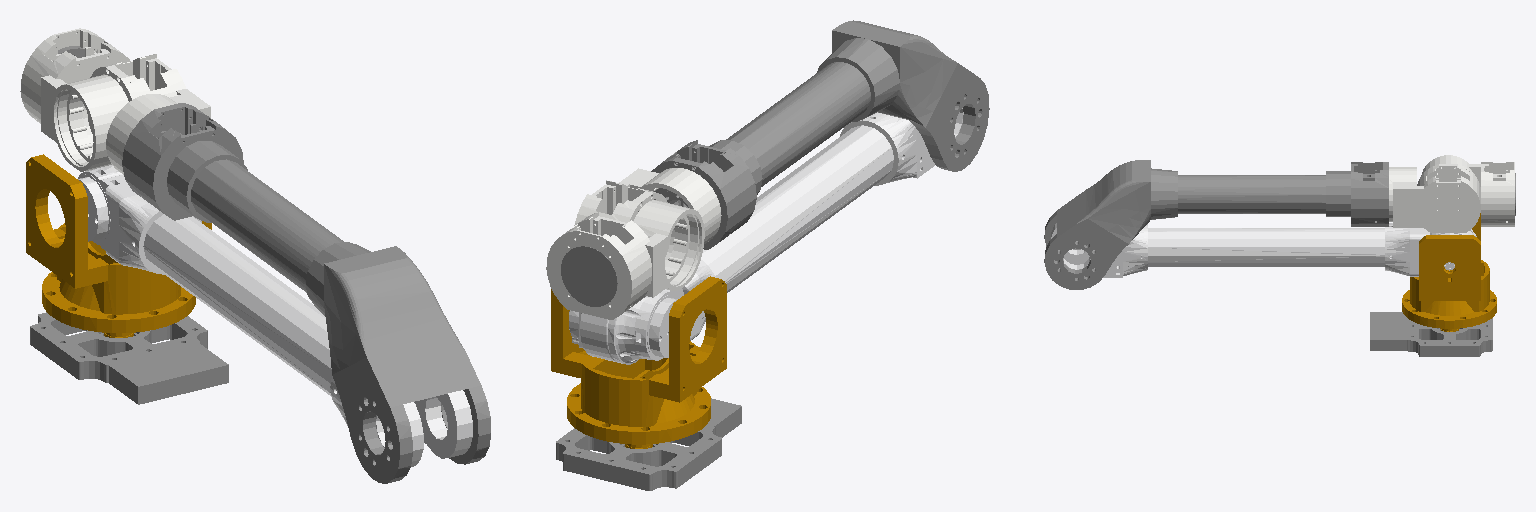
URDF robot description (solid_arm_3):
<?xml version="1.0" encoding="utf-8"?>
<!-- This URDF was automatically created by SolidWorks to URDF Exporter! Originally created by [author] ([email redacted]) 
     Commit Version: 1.6.0-4-g7f85cfe  Build Version: 1.6.7995.38578
     For more information, please see http://wiki.ros.org/sw_urdf_exporter -->
<robot
  name="solid_arm_3">
  <link
    name="base_link">
    <inertial>
      <origin
        xyz="5.45811228249291E-12 -0.0347354696031365 0.00993682800388759"
        rpy="0 0 0" />
      <mass
        value="300" />
      <inertia
        ixx="0.00130136558209543"
        ixy="-3.25030060303559E-14"
        ixz="-1.25314675845905E-16"
        iyy="0.000611255919066504"
        iyz="7.97483279275703E-07"
        izz="0.00188833434239115" />
    </inertial>
    <visual>
      <origin
        xyz="0 0 0"
        rpy="0 0 0" />
      <geometry>
        <mesh
          filename="package://solid_arm_3/meshes/base_link.STL" />
      </geometry>
      <material
        name="">
        <color
          rgba="0.627450980392157 0.627450980392157 0.627450980392157 1" />
      </material>
    </visual>
    <collision>
      <origin
        xyz="0 0 0"
        rpy="0 0 0" />
      <geometry>
        <mesh
          filename="package://solid_arm_3/meshes/base_link.STL" />
      </geometry>
    </collision>
  </link>
  <link
    name="link_1">
    <inertial>
      <origin
        xyz="-6.54924357350654E-09 0.0935754483865625 0.00348909519593697"
        rpy="0 0 0" />
      <mass
        value="0.8" />
      <inertia
        ixx="0.00445491793659017"
        ixy="5.79946981711623E-09"
        ixz="1.56221159089061E-09"
        iyy="0.00348291321303076"
        iyz="-0.000197414406114102"
        izz="0.0032938194840003" />
    </inertial>
    <visual>
      <origin
        xyz="0 0 0"
        rpy="0 0 0" />
      <geometry>
        <mesh
          filename="package://solid_arm_3/meshes/link_1.STL" />
      </geometry>
      <material
        name="">
        <color
          rgba="0.784313725490196 0.556862745098039 0.0274509803921569 1" />
      </material>
    </visual>
    <collision>
      <origin
        xyz="0 0 0"
        rpy="0 0 0" />
      <geometry>
        <mesh
          filename="package://solid_arm_3/meshes/link_1.STL" />
      </geometry>
    </collision>
  </link>
  <joint
    name="joint_1"
    type="revolute">
    <origin
      xyz="0 0 -0.000272032831633795"
      rpy="1.5707963267949 0 1.5707963267949" />
    <parent
      link="base_link" />
    <child
      link="link_1" />
    <axis
      xyz="0 -1 0" />
    <limit
      lower="0"
      upper="0"
      effort="0"
      velocity="0" />
  </joint>
  <link
    name="link_2">
    <inertial>
      <origin
        xyz="0.215407989560776 -0.00555163134203315 -0.000357905338686959"
        rpy="0 0 0" />
      <mass
        value="1.2" />
      <inertia
        ixx="0.00164763843073286"
        ixy="-0.00156681707842952"
        ixz="-1.59251320955987E-05"
        iyy="0.0812874427992425"
        iyz="-1.52328664766825E-05"
        izz="0.0814958586053036" />
    </inertial>
    <visual>
      <origin
        xyz="0 0 0"
        rpy="0 0 0" />
      <geometry>
        <mesh
          filename="package://solid_arm_3/meshes/link_2.STL" />
      </geometry>
      <material
        name="">
        <color
          rgba="0.96078431372549 0.96078431372549 0.964705882352941 1" />
      </material>
    </visual>
    <collision>
      <origin
        xyz="0 0 0"
        rpy="0 0 0" />
      <geometry>
        <mesh
          filename="package://solid_arm_3/meshes/link_2.STL" />
      </geometry>
    </collision>
  </link>
  <joint
    name="joint_2"
    type="revolute">
    <origin
      xyz="0 0.160965100452856 0"
      rpy="-1.5707963267949 0 3.14159265358979" />
    <parent
      link="link_1" />
    <child
      link="link_2" />
    <axis
      xyz="0 -1 0" />
    <limit
      lower="0"
      upper="0"
      effort="0"
      velocity="0" />
  </joint>
  <link
    name="link_3">
    <inertial>
      <origin
        xyz="0.190049864116126 0.000208072255046545 0.0734631751736365"
        rpy="0 0 0" />
      <mass
        value="0.7" />
      <inertia
        ixx="0.00415626678379969"
        ixy="2.31977325415764E-06"
        ixz="-0.00498939101987263"
        iyy="0.0637241978846331"
        iyz="-1.44680361436606E-07"
        izz="0.0628452345294578" />
    </inertial>
    <visual>
      <origin
        xyz="0 0 0"
        rpy="0 0 0" />
      <geometry>
        <mesh
          filename="package://solid_arm_3/meshes/link_3.STL" />
      </geometry>
      <material
        name="">
        <color
          rgba="0.627450980392157 0.627450980392157 0.627450980392157 1" />
      </material>
    </visual>
    <collision>
      <origin
        xyz="0 0 0"
        rpy="0 0 0" />
      <geometry>
        <mesh
          filename="package://solid_arm_3/meshes/link_3.STL" />
      </geometry>
    </collision>
  </link>
  <joint
    name="joint_3"
    type="revolute">
    <origin
      xyz="0.604996531394401 0 -0.00204895552218173"
      rpy="3.14159265358978 0 -3.14159265358979" />
    <parent
      link="link_2" />
    <child
      link="link_3" />
    <axis
      xyz="0 1 0" />
    <limit
      lower="0"
      upper="0"
      effort="0"
      velocity="0" />
  </joint>
  <link
    name="link_4">
    <inertial>
      <origin
        xyz="0.0195064896879694 0.0799193165513328 -0.00556310080903027"
        rpy="0 0 0" />
      <mass
        value="0.4" />
      <inertia
        ixx="0.00115087776847524"
        ixy="-3.72010543625815E-05"
        ixz="1.33604220267201E-05"
        iyy="0.00061065760177573"
        iyz="3.16981049312718E-05"
        izz="0.00112720592989589" />
    </inertial>
    <visual>
      <origin
        xyz="0 0 0"
        rpy="0 0 0" />
      <geometry>
        <mesh
          filename="package://solid_arm_3/meshes/link_4.STL" />
      </geometry>
      <material
        name="">
        <color
          rgba="0.964705882352941 0.964705882352941 0.952941176470588 1" />
      </material>
    </visual>
    <collision>
      <origin
        xyz="0 0 0"
        rpy="0 0 0" />
      <geometry>
        <mesh
          filename="package://solid_arm_3/meshes/link_4.STL" />
      </geometry>
    </collision>
  </link>
  <joint
    name="joint_4"
    type="revolute">
    <origin
      xyz="0.506996531394416 0 0.0950000000000046"
      rpy="0 0 -1.57079632679489" />
    <parent
      link="link_3" />
    <child
      link="link_4" />
    <axis
      xyz="0 1 0" />
    <limit
      lower="0"
      upper="0"
      effort="0"
      velocity="0" />
  </joint>
  <link
    name="link_5">
    <inertial>
      <origin
        xyz="0.0648683918206859 0.00714151987665677 -0.00654725938734685"
        rpy="0 0 0" />
      <mass
        value="0.3" />
      <inertia
        ixx="0.000662319506606223"
        ixy="0.00016406136109303"
        ixz="3.40129885234581E-05"
        iyy="0.000828482253867126"
        iyz="-1.47763208138054E-05"
        izz="0.00097425592176829" />
    </inertial>
    <visual>
      <origin
        xyz="0 0 0"
        rpy="0 0 0" />
      <geometry>
        <mesh
          filename="package://solid_arm_3/meshes/link_5.STL" />
      </geometry>
      <material
        name="">
        <color
          rgba="0.964705882352941 0.964705882352941 0.952941176470588 1" />
      </material>
    </visual>
    <collision>
      <origin
        xyz="0 0 0"
        rpy="0 0 0" />
      <geometry>
        <mesh
          filename="package://solid_arm_3/meshes/link_5.STL" />
      </geometry>
    </collision>
  </link>
  <joint
    name="joint_5"
    type="revolute">
    <origin
      xyz="0 0.0959073745571523 0"
      rpy="0 0 1.5707963267949" />
    <parent
      link="link_4" />
    <child
      link="link_5" />
    <axis
      xyz="0 -1 0" />
    <limit
      lower="0"
      upper="0"
      effort="0"
      velocity="0" />
  </joint>
  <link
    name="link_6">
    <inertial>
      <origin
        xyz="-0.000217130672829968 0.00493051818469435 -7.37455715417805E-06"
        rpy="0 0 0" />
      <mass
        value="0.2" />
      <inertia
        ixx="1.20905221041562E-05"
        ixy="3.34246702049634E-08"
        ixz="-9.39864484306108E-21"
        iyy="2.34022614298941E-05"
        iyz="-5.34320824709268E-22"
        izz="1.19313179838262E-05" />
    </inertial>
    <visual>
      <origin
        xyz="0 0 0"
        rpy="0 0 0" />
      <geometry>
        <mesh
          filename="package://solid_arm_3/meshes/link_6.STL" />
      </geometry>
      <material
        name="">
        <color
          rgba="0.627450980392157 0.627450980392157 0.627450980392157 1" />
      </material>
    </visual>
    <collision>
      <origin
        xyz="0 0 0"
        rpy="0 0 0" />
      <geometry>
        <mesh
          filename="package://solid_arm_3/meshes/link_6.STL" />
      </geometry>
    </collision>
  </link>
  <joint
    name="joint_6"
    type="revolute">
    <origin
      xyz="0.10881 0 -0.0020141"
      rpy="1.5708 -1.5708 0" />
    <parent
      link="link_5" />
    <child
      link="link_6" />
    <axis
      xyz="0 -1 0" />
    <limit
      lower="0"
      upper="0"
      effort="0"
      velocity="0" />
  </joint>
</robot>

--- Facts derived from the render (not from the file) ---
Views: 3 orthographic renders of the robot side by side, from view 1: azimuth 30°, elevation 25°; view 2: azimuth 150°, elevation 25°; view 3: azimuth 270°, elevation 25°.
Model solid_arm_3 with 7 links and 6 joints (6 revolute), rooted at base_link, posed every joint at zero.
Visible links, largest first — view 1: link_3, link_2, link_1, base_link, link_5, link_4; view 2: link_3, link_2, link_1, link_5, base_link, link_4, link_6; view 3: link_3, link_2, link_1, link_4, base_link, link_5.
Link boxes in pixels (x1,y1,x2,y2): link_3: (122,103,490,483); link_2: (78,165,472,466); link_1: (26,154,211,337); base_link: (30,312,228,404); link_5: (20,28,130,171); link_4: (87,54,210,174); link_3: (651,20,989,249); link_2: (569,108,963,364); link_1: (551,276,726,448); link_5: (546,200,704,319); base_link: (556,398,741,490); link_4: (574,168,721,254); link_6: (561,246,617,306); link_3: (1044,160,1388,289); link_2: (1051,223,1476,277); link_1: (1402,213,1496,331); link_4: (1389,164,1480,232); base_link: (1370,312,1492,356); link_5: (1421,155,1514,226).
Size in the robot's own frame: 0.159 by 0.7641 by 0.3066 metres.
Meshes: 7 distinct files referenced, 7 mesh visuals loaded (7 binary STL).